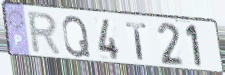1: (184, 24, 204, 70)
2: (156, 21, 185, 67)
4: (97, 17, 122, 62)
Q: (61, 14, 92, 59)
R: (26, 10, 64, 58)
T: (124, 21, 149, 62)
